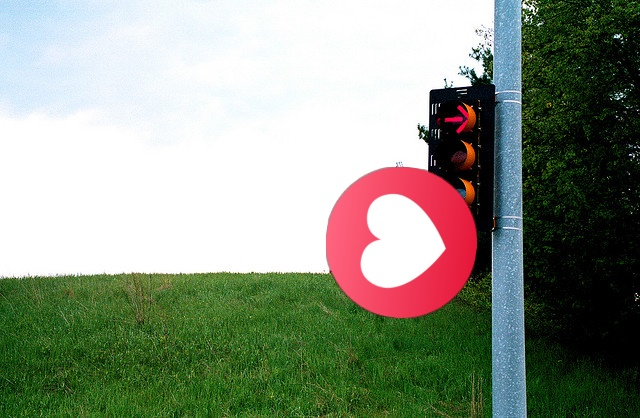love: (326, 167, 477, 318)
